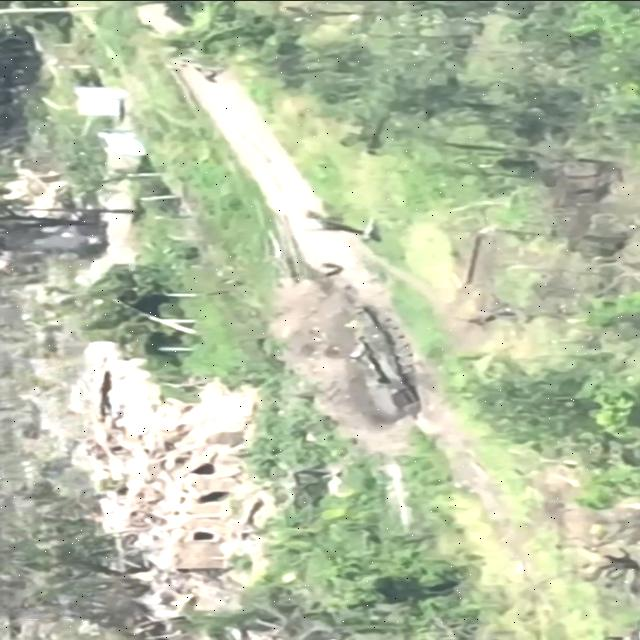MBT: (335, 303, 419, 409)
